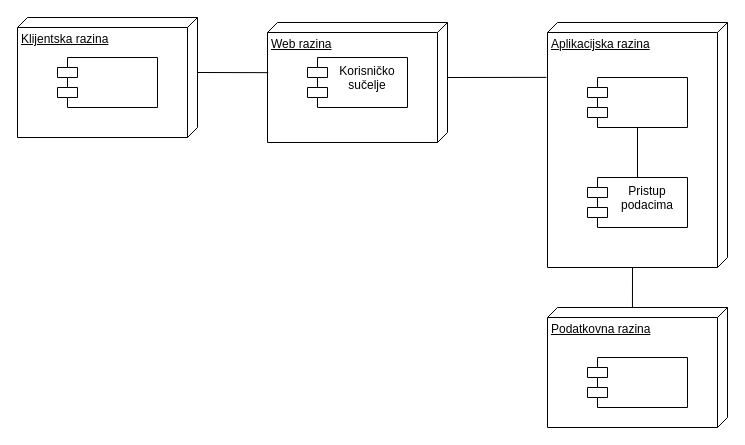
Image size: 745x445. Some labels were removed from this diagram. The centre of each missing label's shape, as x and y in pixels:
Baza podataka: pixel 637 382
Korisničko računalo: pixel 107 82
Poslovna logika: pixel 637 102
